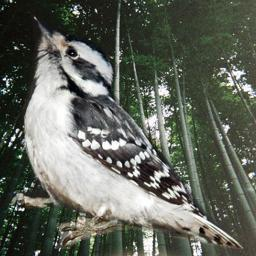Woodpecker: (4, 11, 243, 249)
